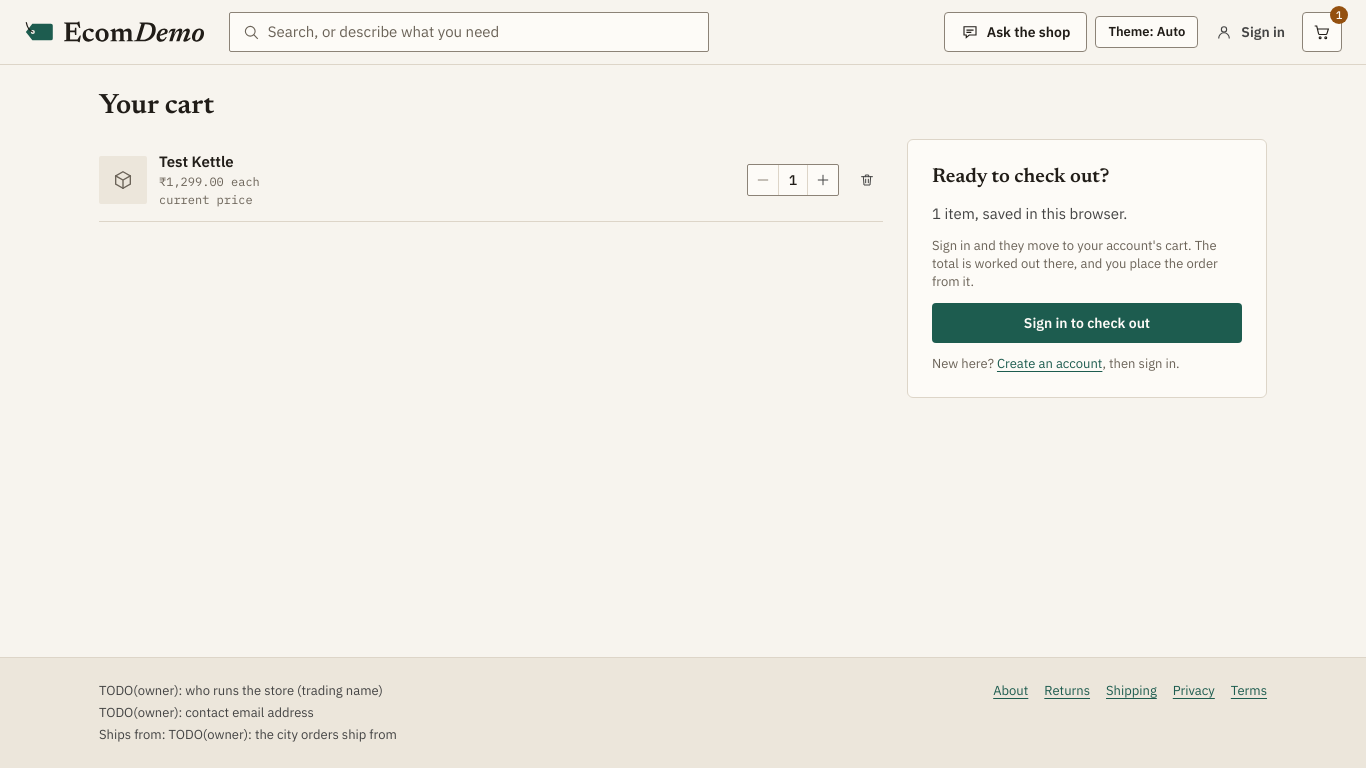
it: the guest cart page › changes a quantity in the browser only
This screenshot has width=1366, height=768.
Expected: the heading "Your cart" is shown, [99,89,214,123]
Click the button named "Increase": (823, 180) [808,165,838,195]
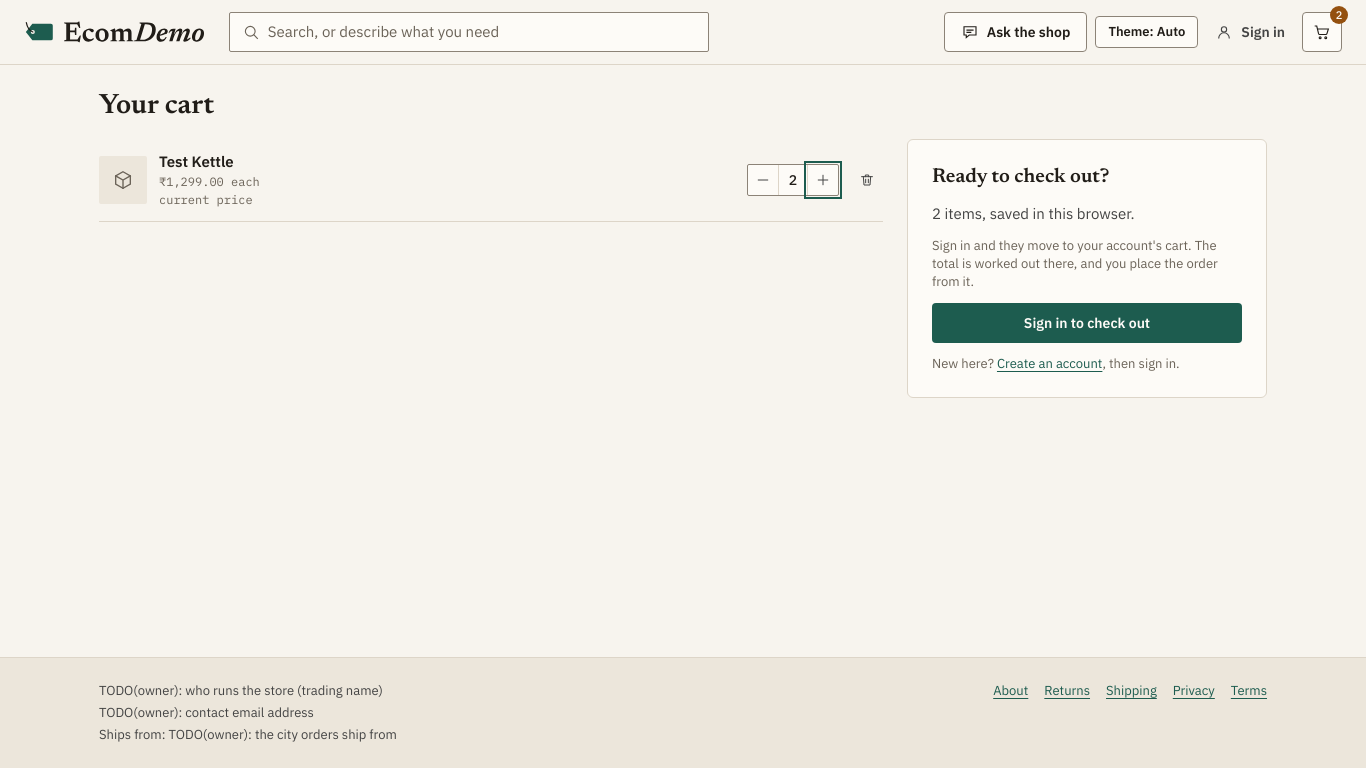
Expected: the element named "Quantity of Test Kettle" reads "2", [789,171,797,189]
